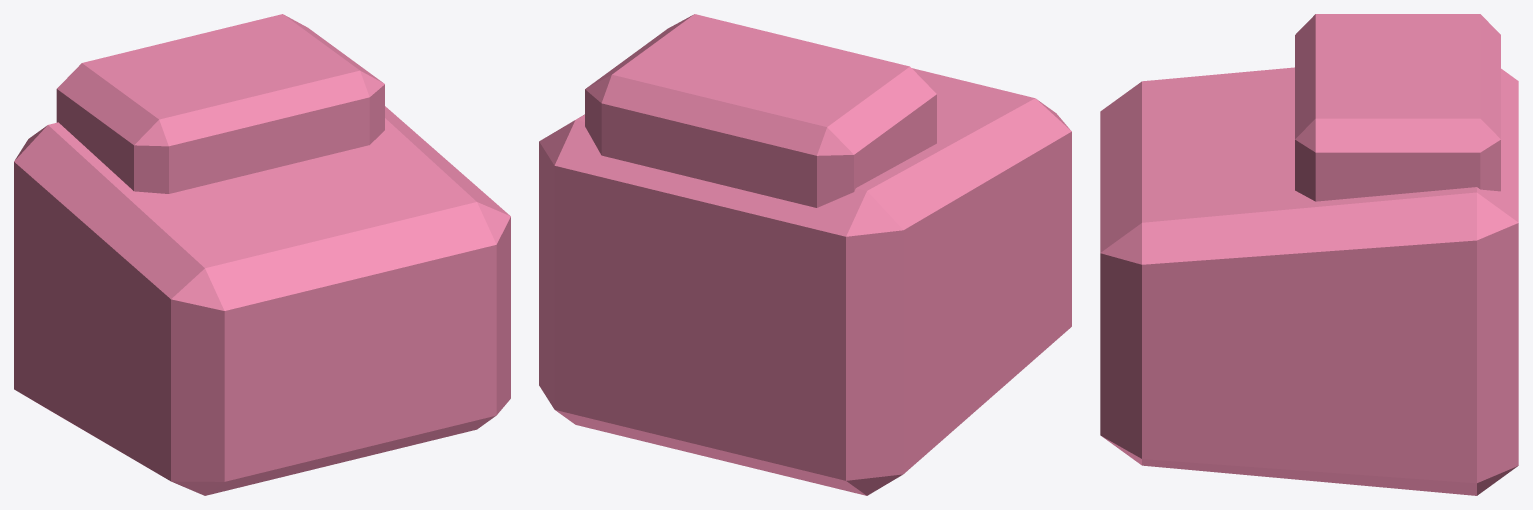
The model's file is PinkBeanbag.fbx.
The picture shows the model from 3 angles, left to right: view 1: azimuth 30°, elevation 25°; view 2: azimuth 150°, elevation 25°; view 3: azimuth 270°, elevation 25°; orthographic projection. The views are drawn at different scales.
Parts seen in each view (by area): view 1: PinkBeanbag; view 2: PinkBeanbag; view 3: PinkBeanbag.
Part boxes in pixels (x1=…): PinkBeanbag: x1=14, y1=14, x2=510, y2=495; PinkBeanbag: x1=539, y1=14, x2=1071, y2=495; PinkBeanbag: x1=1100, y1=14, x2=1518, y2=495.
Size of the model in its own units: 2.6 by 2.46 by 2.6.
Materials: 1 (1 with a texture image).
